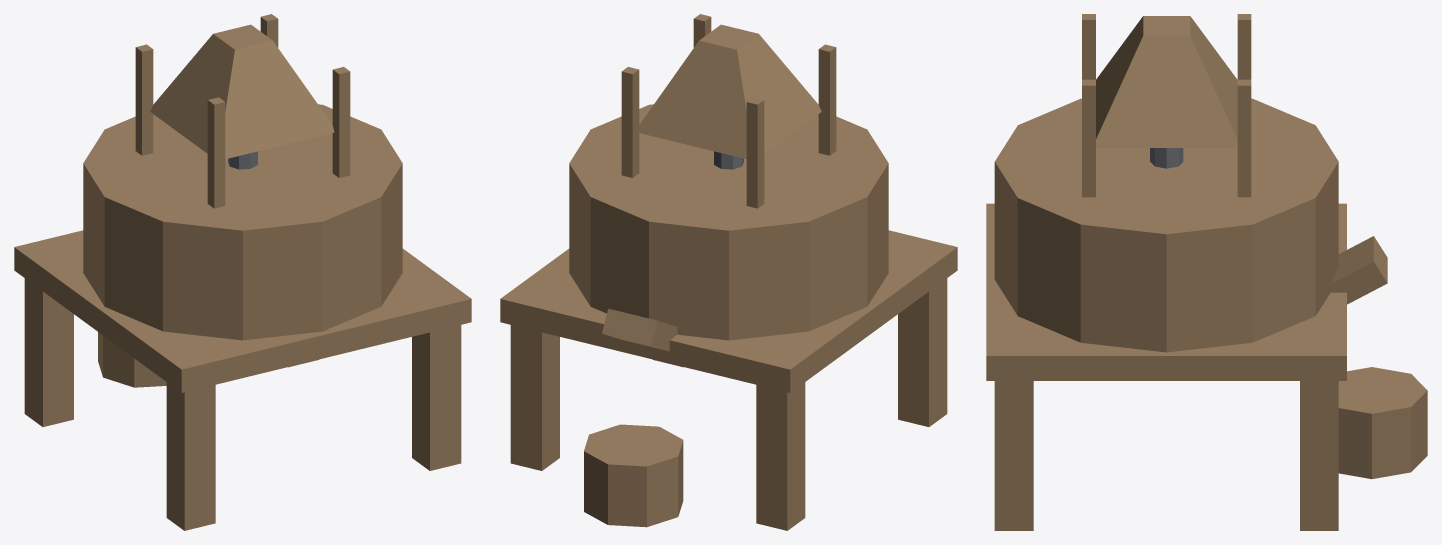
The model's file is millstone.glb.
The picture shows the model from 3 angles, left to right: view 1: azimuth 30°, elevation 25°; view 2: azimuth 150°, elevation 25°; view 3: azimuth 270°, elevation 25°; orthographic projection. The views are drawn at different scales.
Parts seen in each view (by area): view 1: Cylinder, Cube.004, Cone, Cube, Cube.002, Cube.001, Cube.005, Cube.007, Cube.006, Cylinder.005; view 2: Cylinder, Cube.004, Cone, Cylinder.005, Cube.001, Cube.003, Cube, Cube.006, Cube.008, Cube.005, Cube.009; view 3: Cylinder, Cube.004, Cone, Cylinder.005, Cube.002, Cube.003, Cube.009, Cube.008, Cube.007, Cube.006, Cube.005, Cylinder.004.
Boxes of the visible parts, x1=… form: Cylinder: x1=83, y1=104, x2=402, y2=340; Cube.004: x1=14, y1=230, x2=471, y2=392; Cone: x1=150, y1=24, x2=334, y2=159; Cube: x1=166, y1=382, x2=215, y2=530; Cube.002: x1=412, y1=325, x2=461, y2=470; Cube.001: x1=24, y1=278, x2=73, y2=426; Cube.005: x1=207, y1=97, x2=225, y2=208; Cube.007: x1=332, y1=67, x2=350, y2=177; Cube.006: x1=135, y1=44, x2=153, y2=155; Cylinder.005: x1=98, y1=332, x2=166, y2=387; Cylinder: x1=569, y1=104, x2=888, y2=340; Cube.004: x1=500, y1=230, x2=957, y2=392; Cone: x1=637, y1=24, x2=821, y2=159; Cylinder.005: x1=584, y1=424, x2=683, y2=527; Cube.001: x1=756, y1=382, x2=805, y2=530; Cube.003: x1=510, y1=325, x2=559, y2=470; Cube: x1=898, y1=278, x2=947, y2=426; Cube.006: x1=746, y1=97, x2=764, y2=208; Cube.008: x1=621, y1=67, x2=639, y2=177; Cube.005: x1=818, y1=44, x2=836, y2=155; Cube.009: x1=602, y1=308, x2=677, y2=351; Cylinder: x1=994, y1=98, x2=1338, y2=352; Cube.004: x1=986, y1=203, x2=1346, y2=380; Cone: x1=1096, y1=16, x2=1237, y2=147; Cylinder.005: x1=1338, y1=367, x2=1427, y2=479; Cube.002: x1=994, y1=381, x2=1033, y2=530; Cube.003: x1=1300, y1=381, x2=1338, y2=530; Cube.009: x1=1330, y1=236, x2=1387, y2=304; Cube.008: x1=1237, y1=79, x2=1251, y2=197; Cube.007: x1=1082, y1=79, x2=1095, y2=197; Cube.006: x1=1237, y1=14, x2=1251, y2=79; Cube.005: x1=1082, y1=14, x2=1095, y2=79; Cylinder.004: x1=1150, y1=148, x2=1183, y2=168.
Size of the model in its own units: 1.3 by 1.72 by 1.59.
